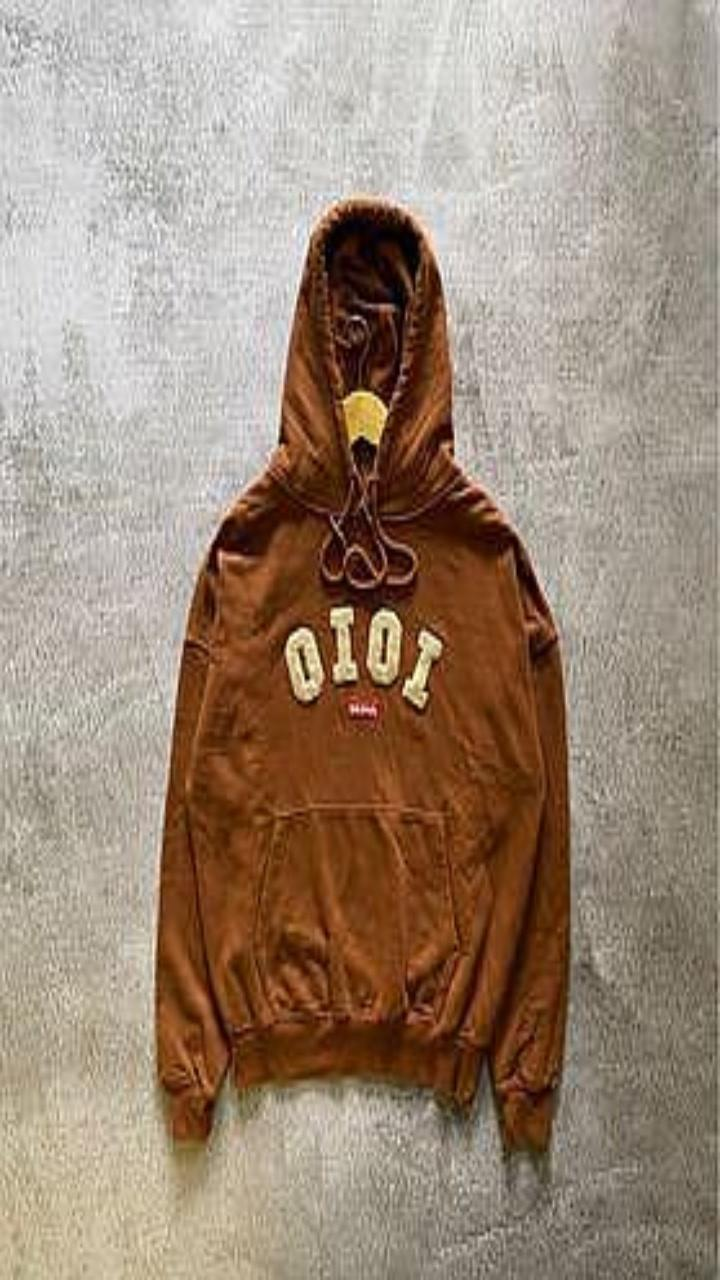Hoodie: (155, 195, 569, 1149)
